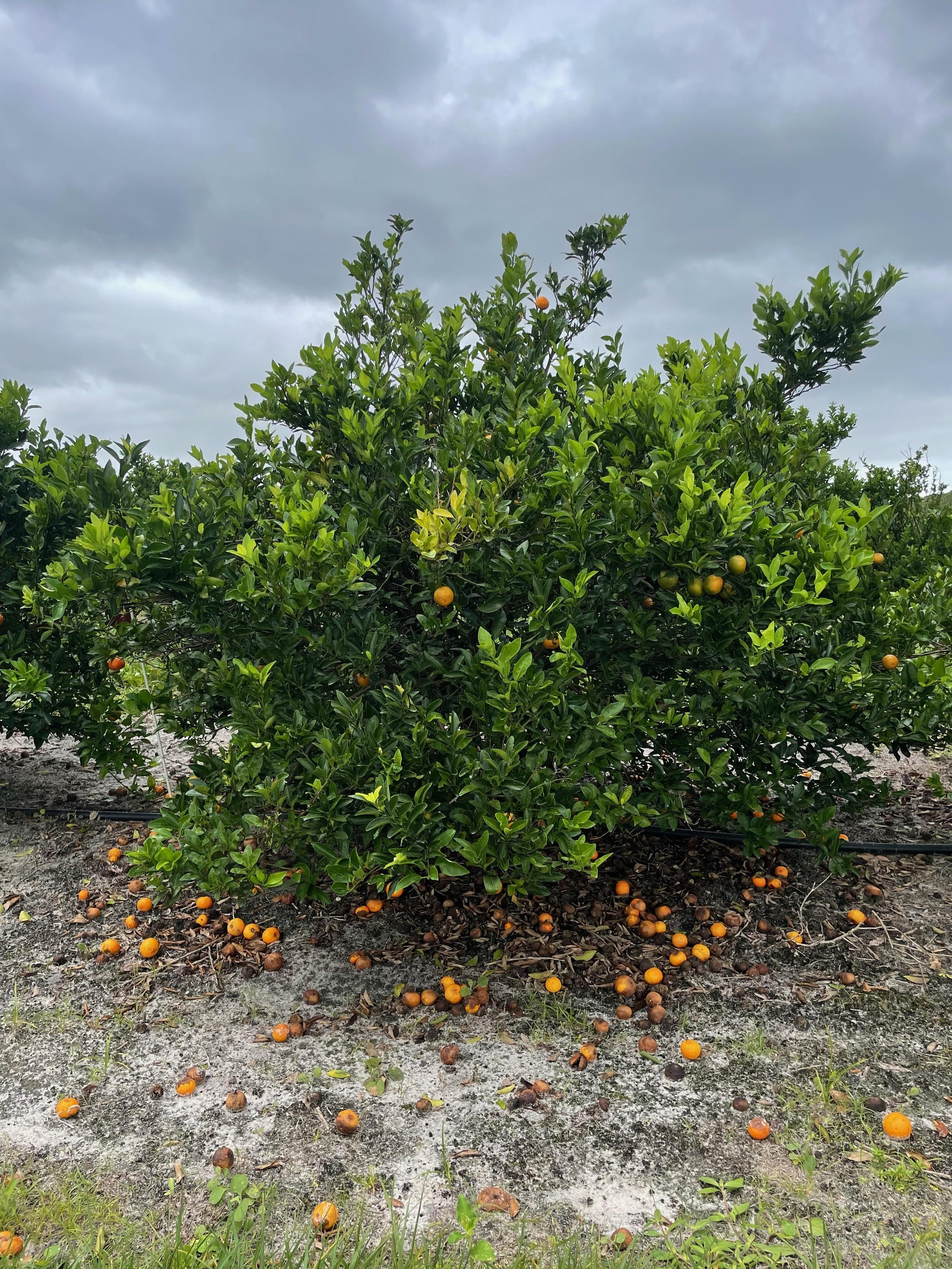fruit_on_ground: (430, 582, 458, 609), (539, 626, 566, 652), (655, 565, 681, 591), (700, 572, 725, 597), (725, 552, 750, 577), (715, 577, 738, 603), (685, 574, 705, 598), (105, 653, 127, 673), (879, 652, 901, 672), (638, 593, 657, 611), (533, 294, 552, 311), (869, 549, 886, 567)
fruit_on_tree: (311, 1200, 341, 1233), (882, 1111, 914, 1141), (210, 1145, 236, 1172), (334, 1108, 360, 1134), (746, 1117, 771, 1141), (1, 1231, 24, 1257), (224, 1088, 248, 1112), (612, 973, 636, 996), (679, 1037, 703, 1060), (56, 1095, 80, 1117), (439, 1044, 461, 1065), (645, 996, 665, 1017), (175, 1076, 196, 1096), (263, 951, 284, 971), (140, 937, 161, 957), (663, 1062, 685, 1081), (646, 1005, 668, 1024), (637, 1034, 659, 1053), (383, 880, 404, 899), (643, 965, 664, 984), (543, 974, 564, 993), (270, 1022, 289, 1043), (472, 984, 492, 1003), (226, 916, 245, 936), (444, 984, 463, 1003), (401, 988, 420, 1007), (220, 940, 240, 958), (462, 995, 480, 1015), (101, 937, 121, 955), (261, 926, 281, 944), (730, 1096, 751, 1113), (352, 953, 373, 970), (613, 1003, 634, 1020), (638, 919, 656, 938), (349, 948, 367, 966), (420, 986, 438, 1004), (709, 919, 727, 937), (623, 907, 642, 924), (691, 943, 710, 960), (134, 895, 153, 912), (694, 906, 713, 923), (366, 895, 385, 912), (845, 907, 865, 923), (592, 1016, 610, 1033), (724, 909, 742, 926), (614, 878, 632, 895), (668, 948, 686, 965), (588, 1022, 607, 1038), (786, 929, 805, 945), (670, 931, 689, 947), (863, 882, 883, 897), (646, 988, 663, 1005), (581, 1043, 598, 1060), (244, 920, 261, 937), (490, 907, 508, 923), (568, 1053, 586, 1069), (127, 878, 145, 894), (351, 902, 369, 918), (537, 918, 555, 934), (195, 894, 213, 910), (630, 897, 649, 912), (288, 1011, 304, 1028), (106, 846, 123, 862), (756, 917, 773, 933), (654, 904, 672, 919), (17, 908, 33, 924), (112, 782, 129, 797), (123, 914, 140, 929), (439, 974, 457, 988), (653, 919, 669, 934), (763, 875, 779, 890), (537, 910, 553, 925), (774, 862, 790, 877), (587, 846, 602, 861), (751, 872, 766, 887), (85, 905, 101, 919), (684, 891, 699, 905), (194, 912, 209, 926), (502, 919, 516, 933), (770, 809, 784, 823), (734, 960, 749, 973), (94, 952, 107, 965), (742, 889, 755, 902), (154, 783, 167, 796), (77, 888, 90, 901), (799, 768, 813, 780), (836, 830, 850, 842), (115, 834, 128, 846), (751, 807, 763, 819), (758, 845, 770, 856), (729, 810, 740, 821)
